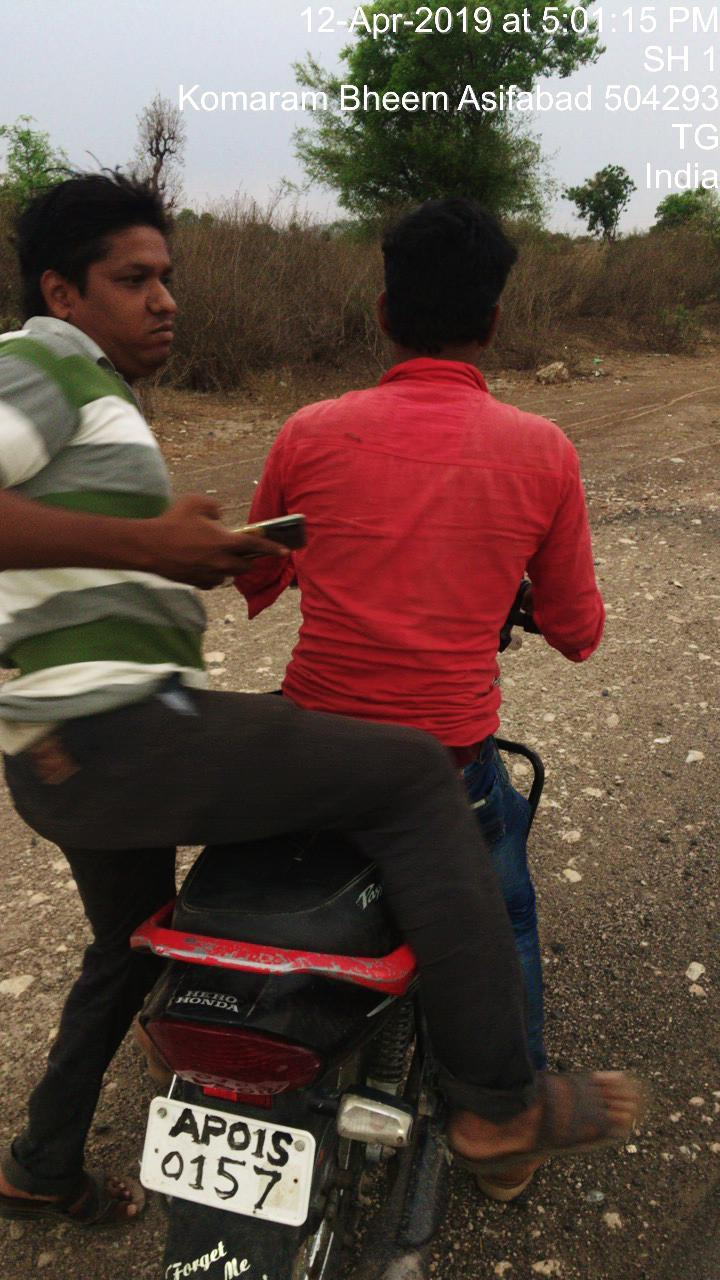plate: (114, 1061, 339, 1246)
